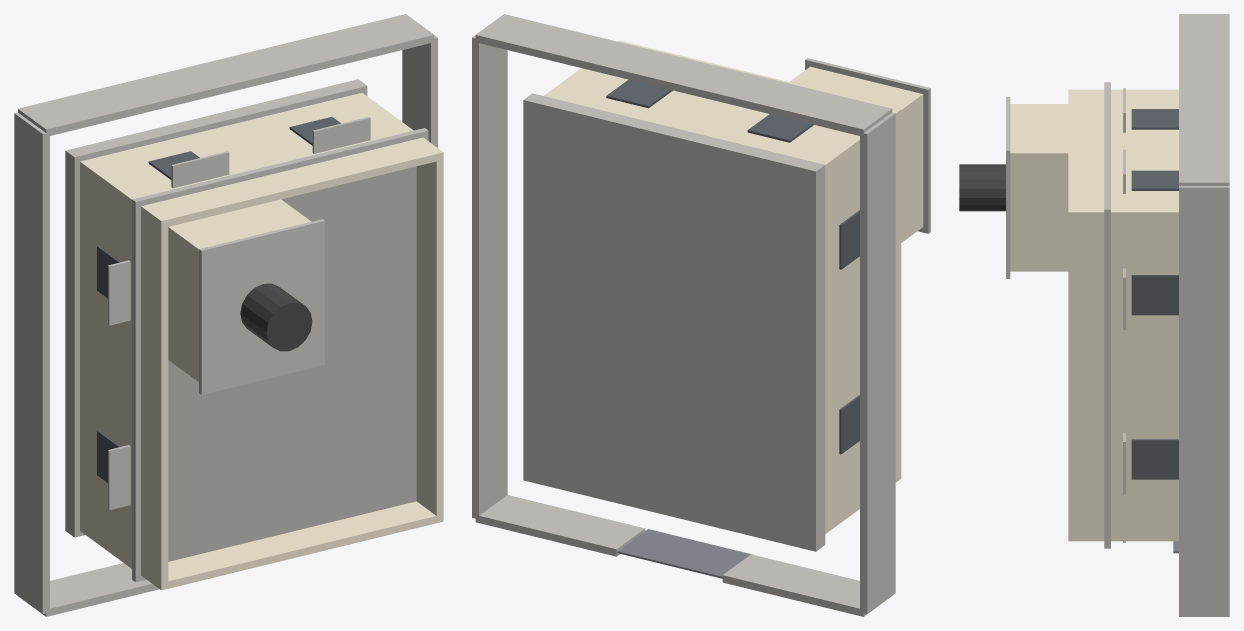
Rendered from house_1f_cream.glb.
3 views of the same model, side by side, from view 1: azimuth 30°, elevation 25°; view 2: azimuth 150°, elevation 25°; view 3: azimuth 270°, elevation 25° (orthographic). The views are drawn at different scales.
Visible parts, largest first — view 1: concrete, cream, roof, tank, glass; view 2: concrete, cream, glass, gate; view 3: cream, concrete, glass, tank.
Boxes of the visible parts, bbox=[...] form: concrete: bbox=[14, 14, 437, 616]; cream: bbox=[80, 93, 443, 590]; roof: bbox=[168, 166, 416, 561]; tank: bbox=[240, 283, 312, 351]; glass: bbox=[97, 117, 340, 482]; concrete: bbox=[472, 14, 930, 616]; cream: bbox=[544, 40, 923, 533]; glass: bbox=[606, 79, 859, 454]; gate: bbox=[617, 529, 753, 578]; cream: bbox=[1010, 89, 1178, 541]; concrete: bbox=[1006, 14, 1229, 616]; glass: bbox=[1131, 109, 1178, 479]; tank: bbox=[959, 164, 1005, 211].
Size of the model in its own units: 11.2 by 13.2 by 7.45.
